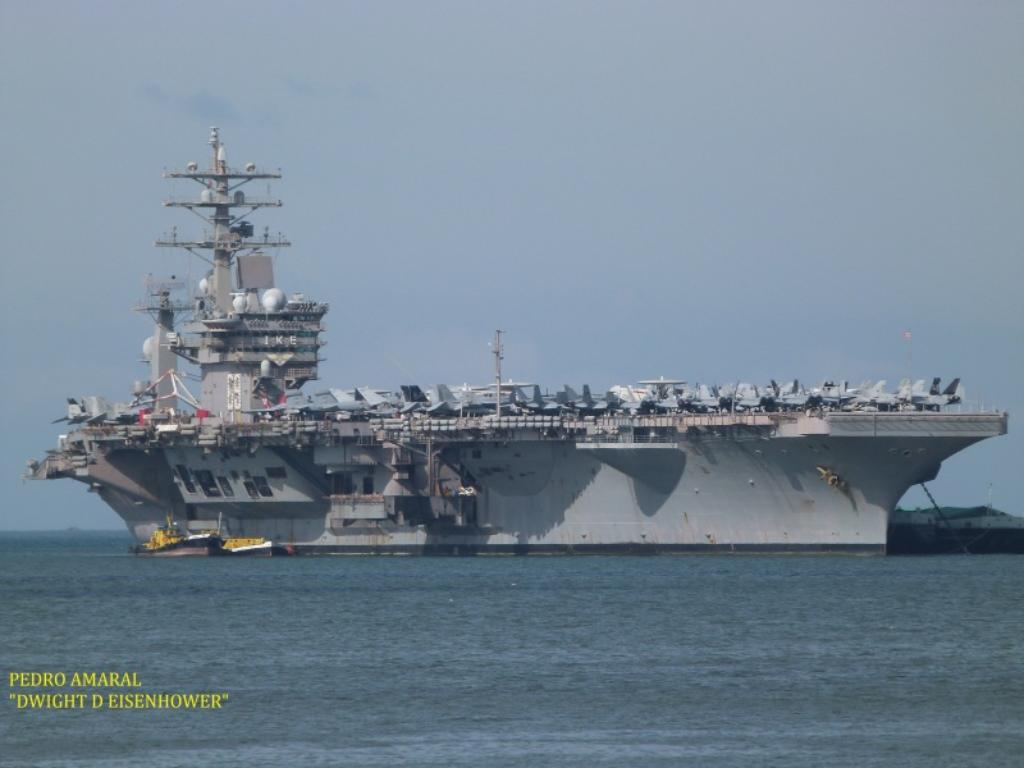Warship: (18, 124, 1012, 560)
